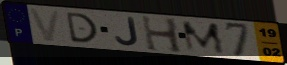7: (223, 21, 251, 59)
D: (64, 11, 100, 44)
H: (140, 14, 185, 54)
J: (114, 16, 141, 48)
M: (180, 21, 228, 55)
V: (27, 7, 63, 43)
